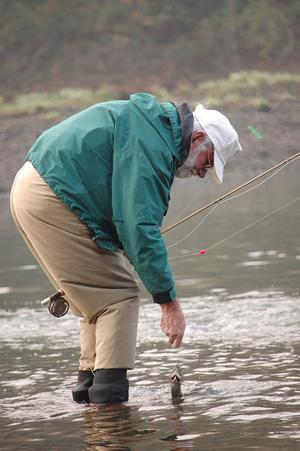person: (10, 94, 240, 405)
